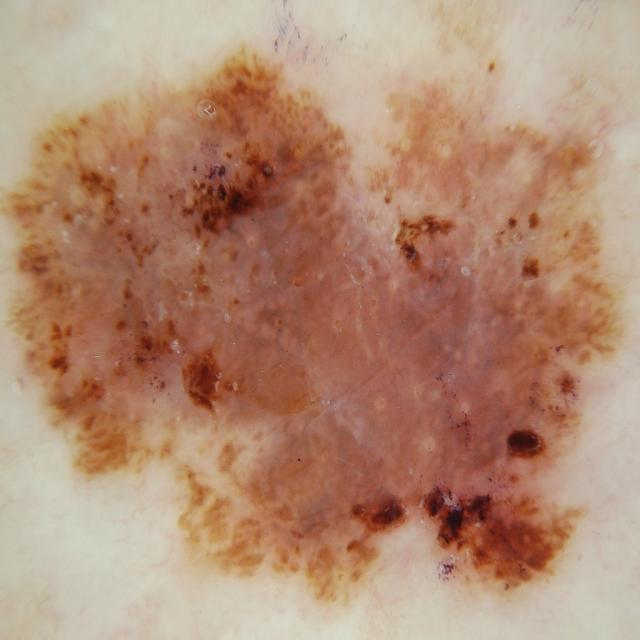Skin-Cancer Melanoma: (5, 12, 639, 640)
